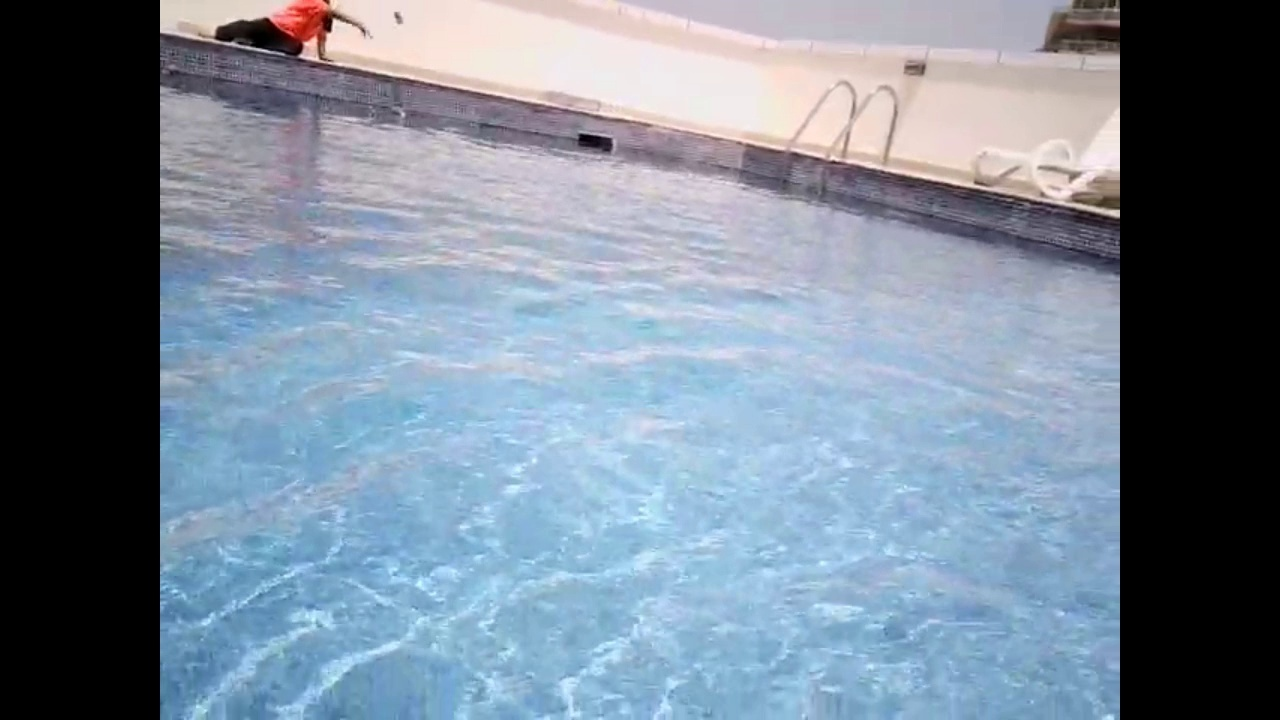debris: (386, 102, 410, 120)
